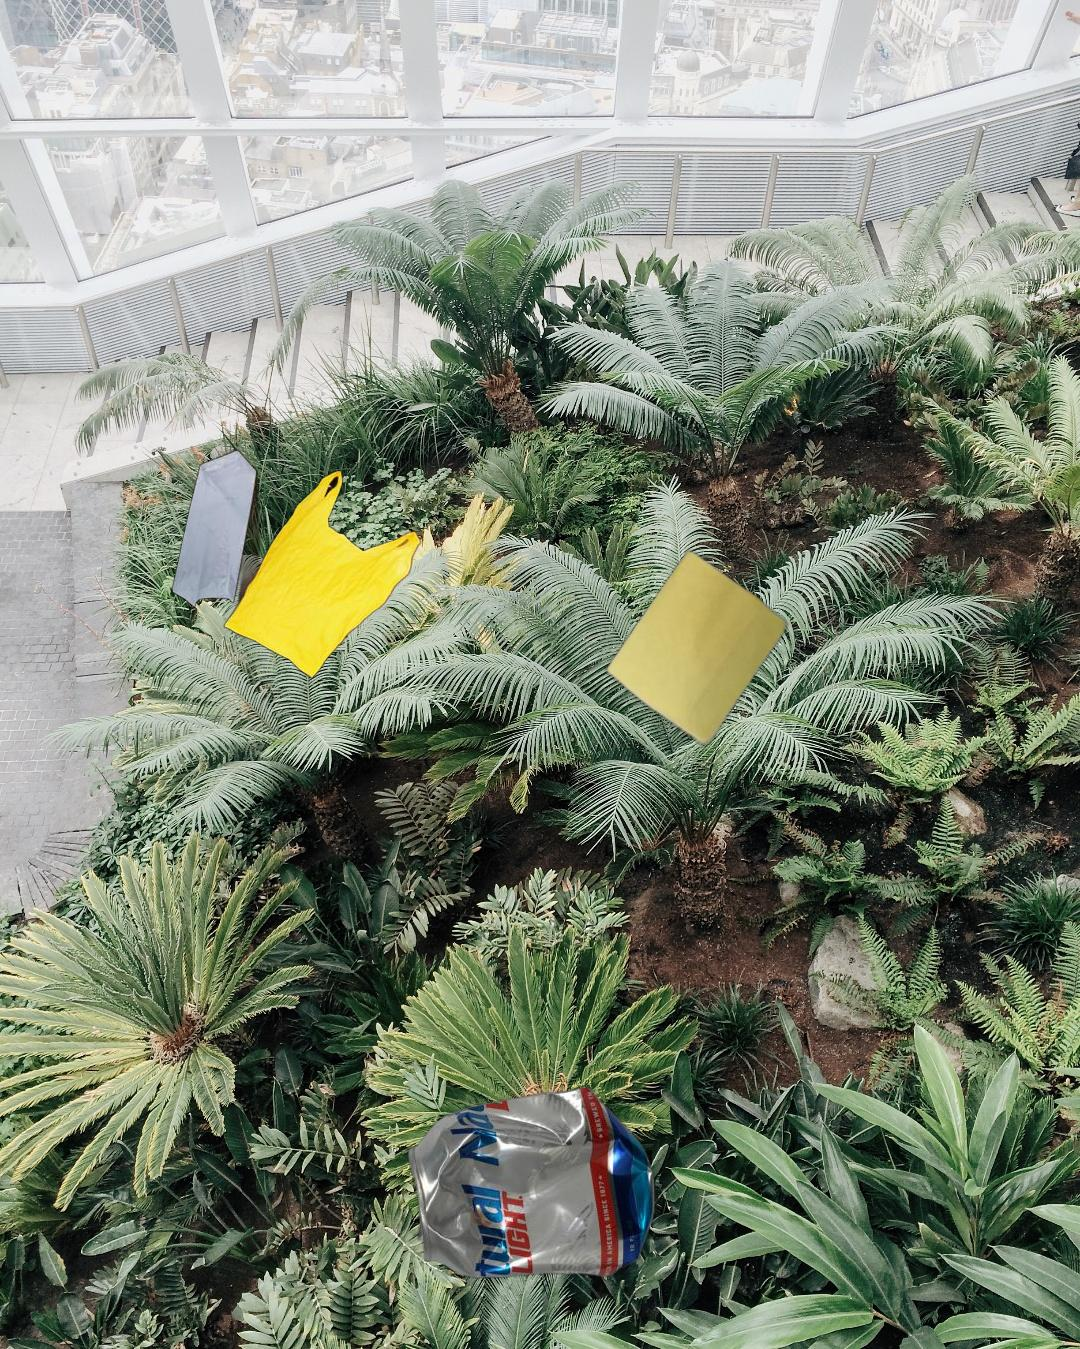metal-cans: (403, 1083, 660, 1282)
paper: (601, 547, 792, 751)
plastic-bag: (169, 447, 424, 681)
